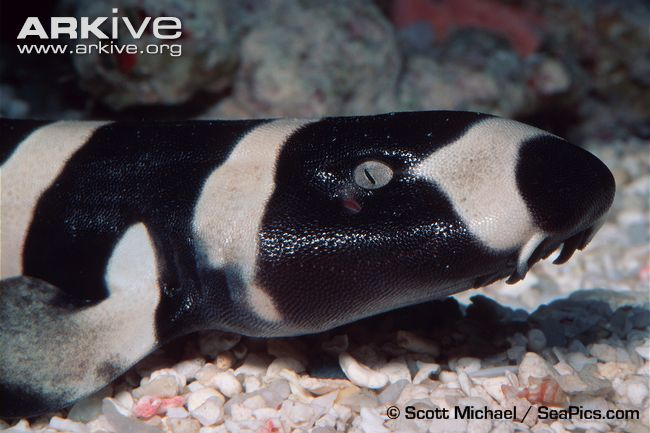shark: (4, 96, 624, 421)
